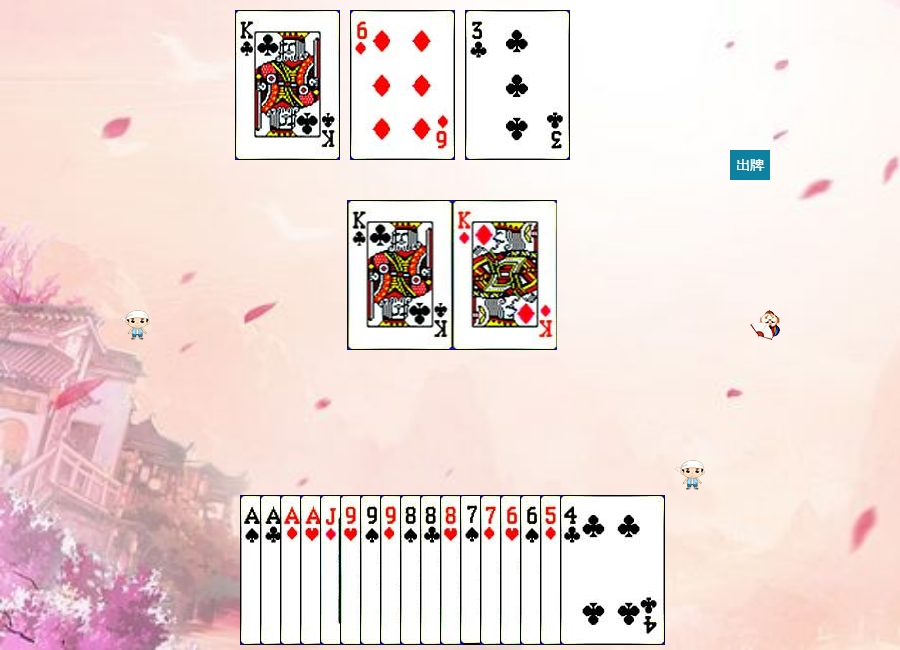11~1: (320, 495, 425, 645)
13~1: (453, 200, 558, 350)
13~2: (235, 10, 340, 160), (348, 200, 453, 350)
14~1: (280, 495, 385, 645)
14~2: (260, 495, 365, 645)
14~3: (300, 495, 405, 645)
14~4: (240, 495, 345, 645)
3~2: (465, 10, 570, 160)
4~2: (560, 495, 665, 645)
5~1: (540, 495, 645, 645)
6~1: (350, 10, 455, 160)
6~3: (500, 495, 605, 645)
6~4: (520, 495, 625, 645)
7~1: (480, 495, 585, 645)
7~4: (460, 495, 565, 645)
8~2: (420, 495, 525, 645)
8~3: (440, 495, 545, 645)
8~4: (400, 495, 505, 645)
9~1: (380, 495, 485, 645)
9~3: (340, 495, 445, 645)
9~4: (360, 495, 465, 645)
